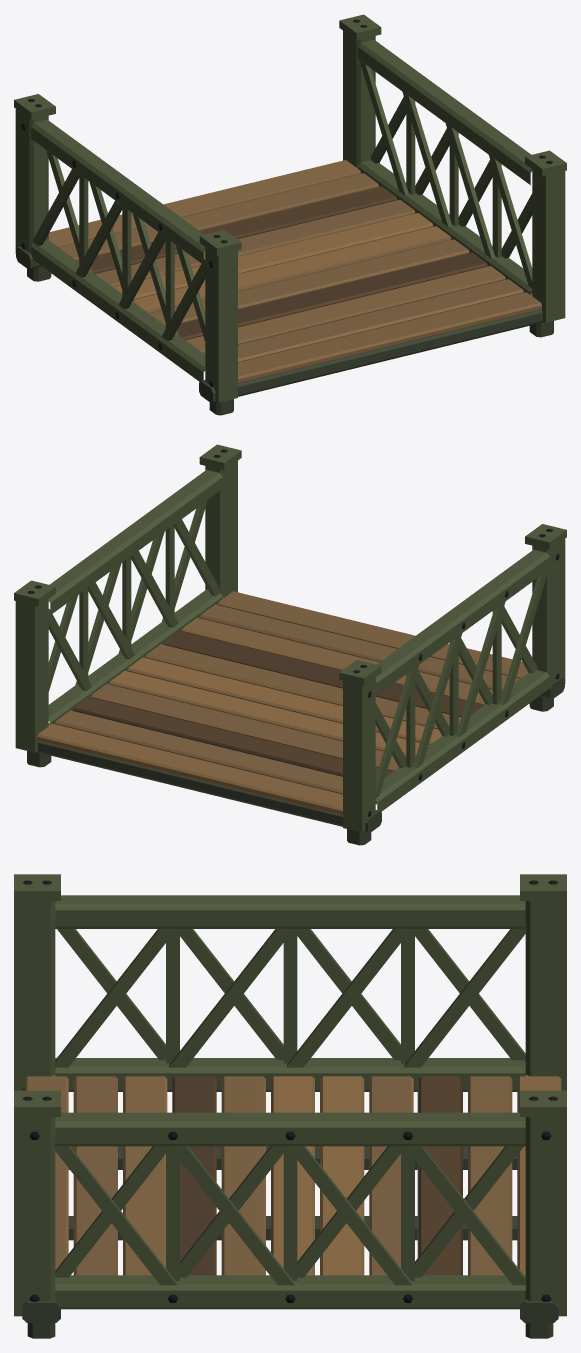
Rendered from bailey-bridge-section-d5c408.glb.
3 views of the same model, one above another, from view 1: azimuth 30°, elevation 25°; view 2: azimuth 150°, elevation 25°; view 3: azimuth 270°, elevation 25° (orthographic). The views are drawn at different scales.
Parts seen in each view (by area): view 1: bridge-section; view 2: bridge-section; view 3: bridge-section.
Boxes of the visible parts, x1,y1,x2,y2 form: bridge-section: (14, 14, 566, 415); bridge-section: (14, 444, 566, 845); bridge-section: (14, 874, 566, 1338).
Bounding box in the file's own units: 4 × 1.9 × 4.
